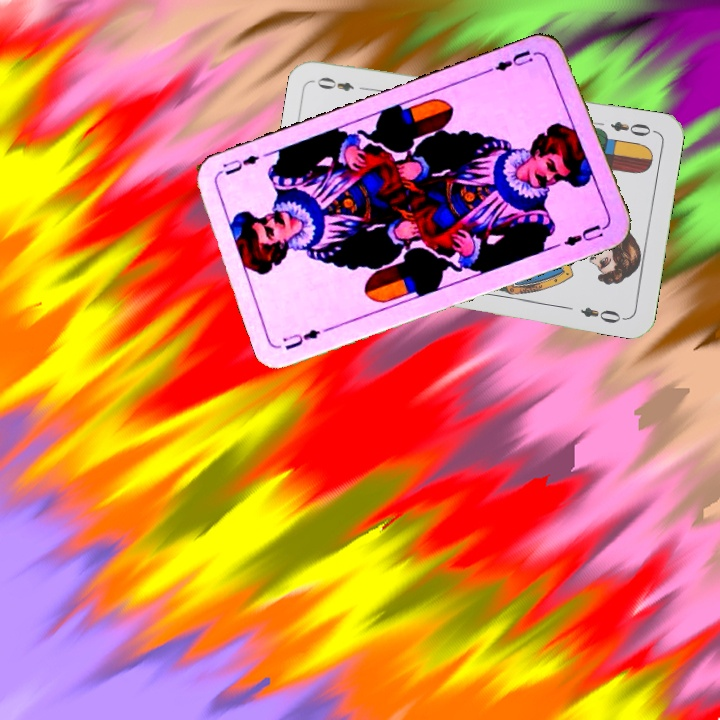EO: (606, 117, 659, 139)
EU: (486, 46, 536, 74), (278, 325, 324, 353)
